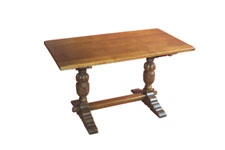obstacle: (44, 29, 194, 133)
